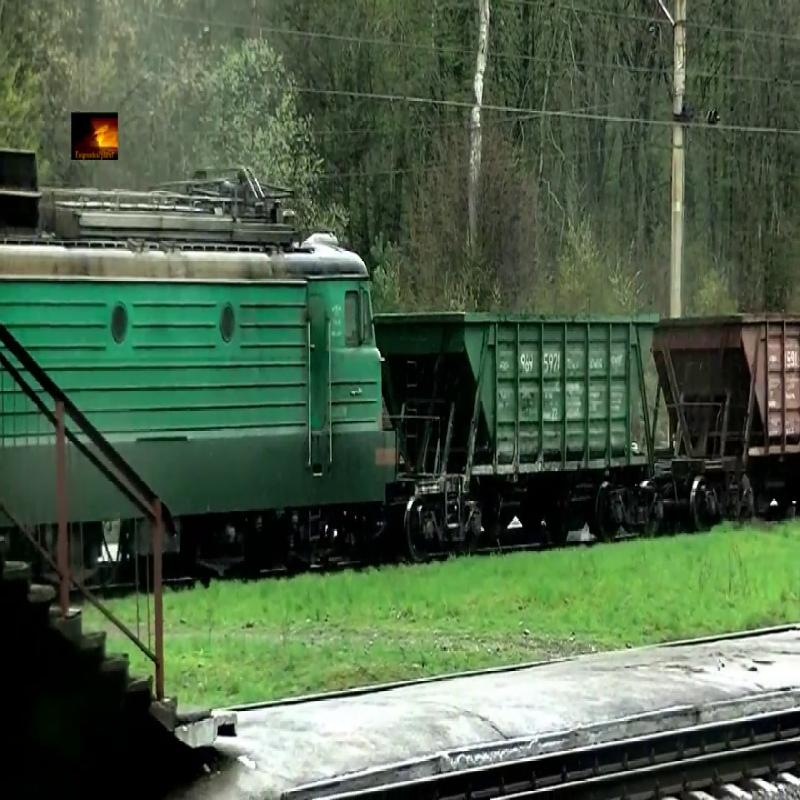train: (376, 312, 661, 478), (659, 320, 800, 463)
